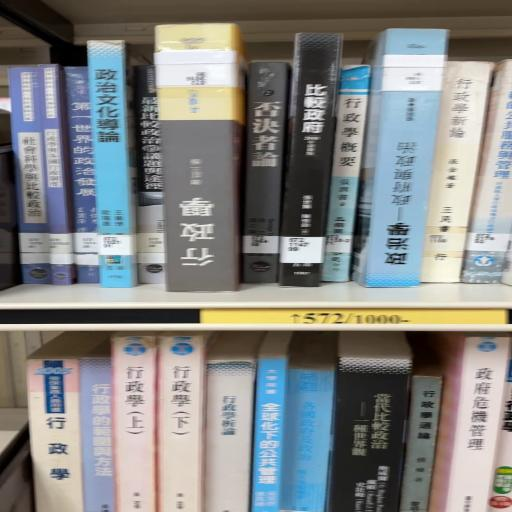reverse: (353, 30, 449, 288), (155, 24, 247, 293)
